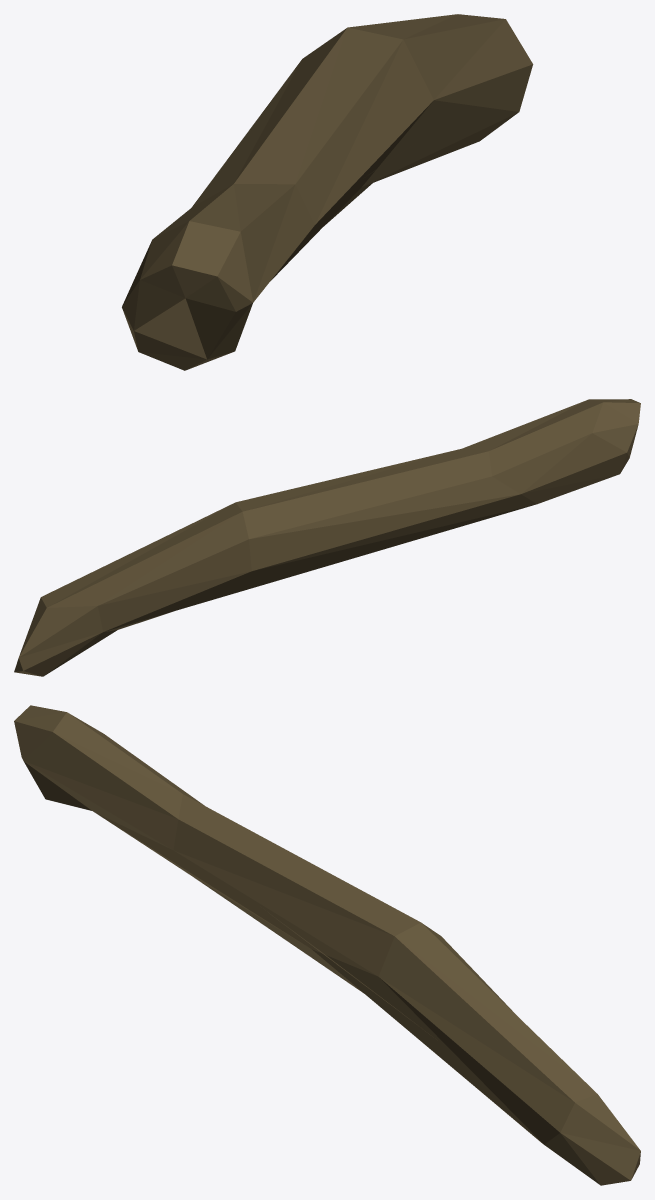
Rendered from femur_r_l.dae.
3 renders of one model, top to bottom at view 1: azimuth 30°, elevation 25°; view 2: azimuth 150°, elevation 25°; view 3: azimuth 270°, elevation 25°, orthographic. The views are drawn at different scales.
Visible parts, largest first — view 1: ant-femur-hind-left; view 2: ant-femur-hind-left; view 3: ant-femur-hind-left.
Boxes of the visible parts, bbox=[...] form: ant-femur-hind-left: bbox=[122, 14, 533, 370]; ant-femur-hind-left: bbox=[14, 399, 640, 676]; ant-femur-hind-left: bbox=[14, 705, 640, 1185].
Bounding box in the file's own units: 4.7 × 5.1 × 2.26.
